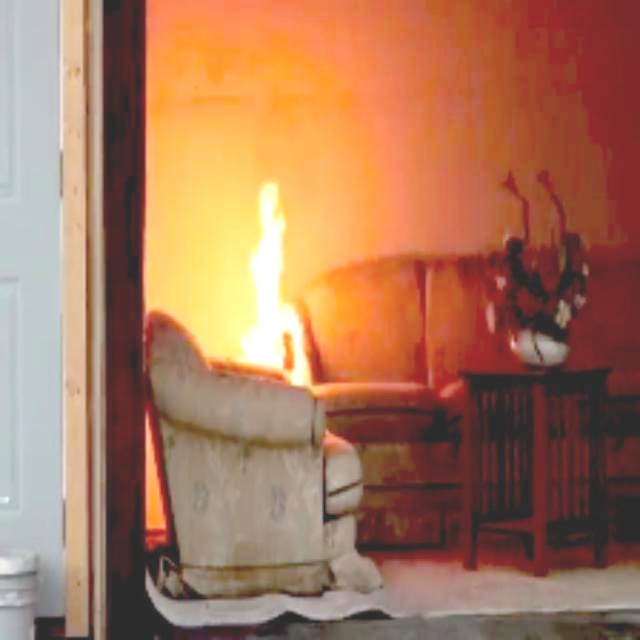fire: (232, 164, 315, 364)
